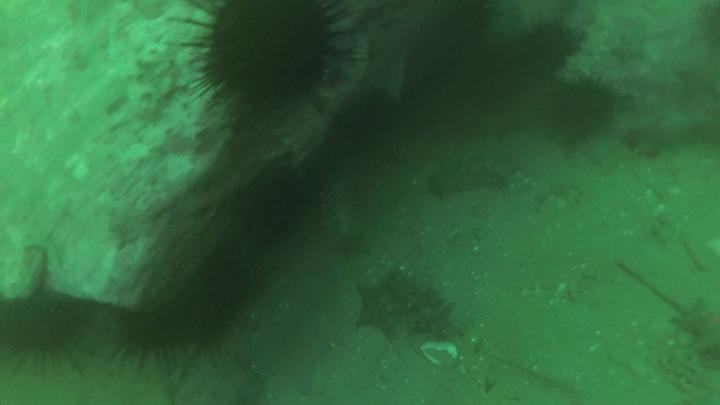echinus: (204, 4, 332, 101), (552, 85, 618, 153), (5, 305, 85, 361), (243, 176, 309, 243), (509, 21, 578, 81), (116, 312, 188, 355), (203, 254, 254, 310)
holothurian: (314, 172, 366, 249), (562, 16, 621, 82)
starfish: (360, 279, 414, 337)
